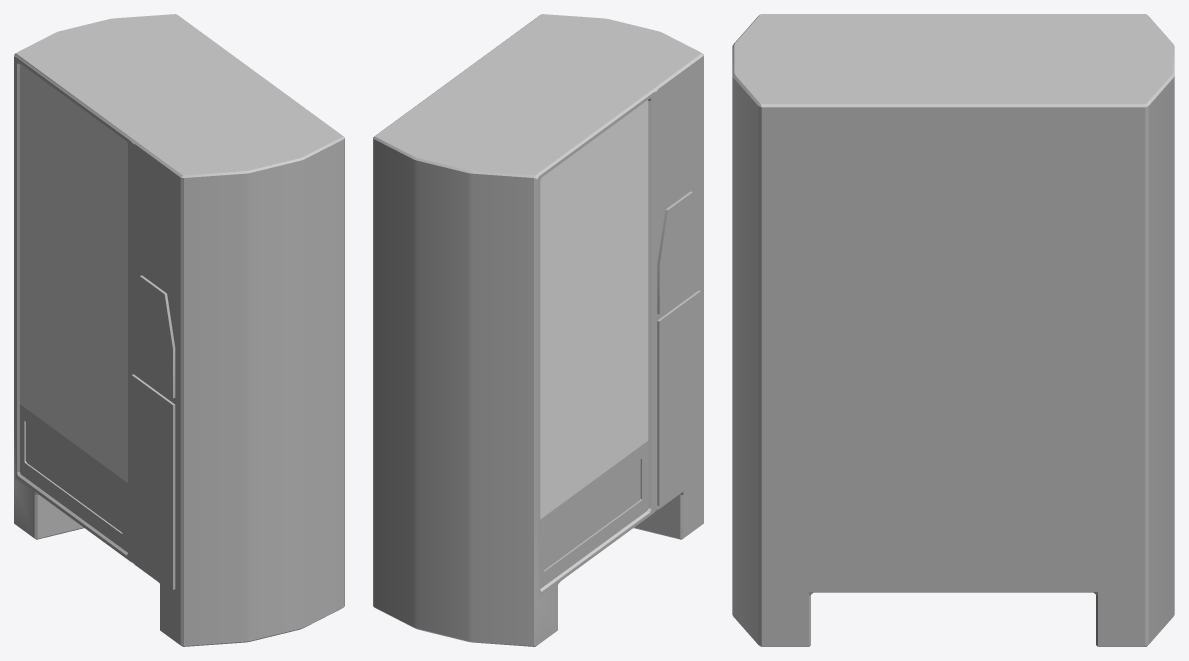
The model's file is vending machine_snack.fbx.
3 renders of one model, left to right at view 1: azimuth 30°, elevation 25°; view 2: azimuth 150°, elevation 25°; view 3: azimuth 270°, elevation 25°, orthographic. The views are drawn at different scales.
Parts seen in each view (by area): view 1: snackVendingMachine_0, Cube_Window_0, snackVendingMachine_door; view 2: snackVendingMachine_0, Cube_Window_0, snackVendingMachine_door; view 3: snackVendingMachine_0.
Part boxes in pixels (bbox=[...]): snackVendingMachine_0: bbox=[14, 14, 344, 646]; Cube_Window_0: bbox=[20, 64, 127, 482]; snackVendingMachine_door: bbox=[26, 422, 122, 532]; snackVendingMachine_0: bbox=[373, 14, 703, 646]; Cube_Window_0: bbox=[540, 100, 648, 519]; snackVendingMachine_door: bbox=[543, 460, 640, 570]; snackVendingMachine_0: bbox=[732, 14, 1174, 646].
Bounding box in the file's own units: 74.05 × 200 × 148.
